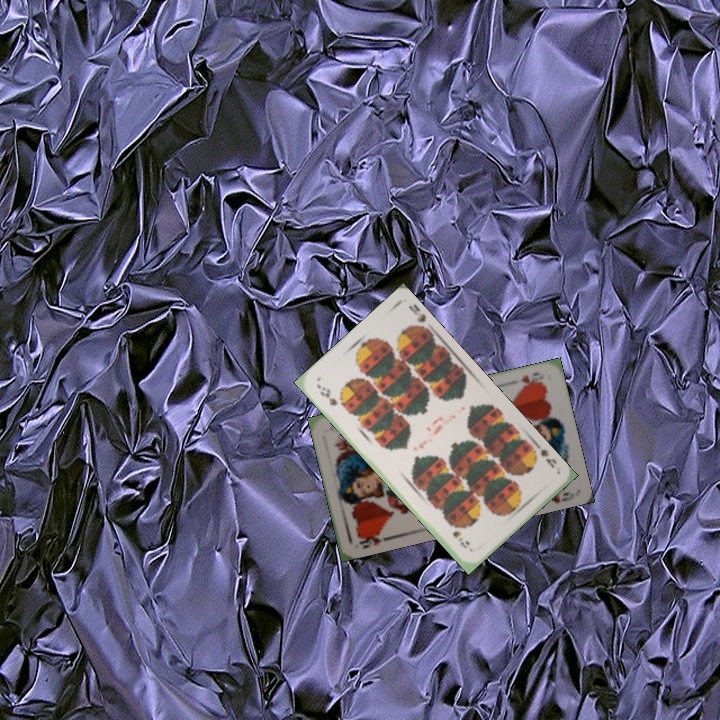HO: (354, 528, 393, 551), (517, 368, 546, 390)
S9: (525, 438, 559, 471), (316, 383, 340, 409)
